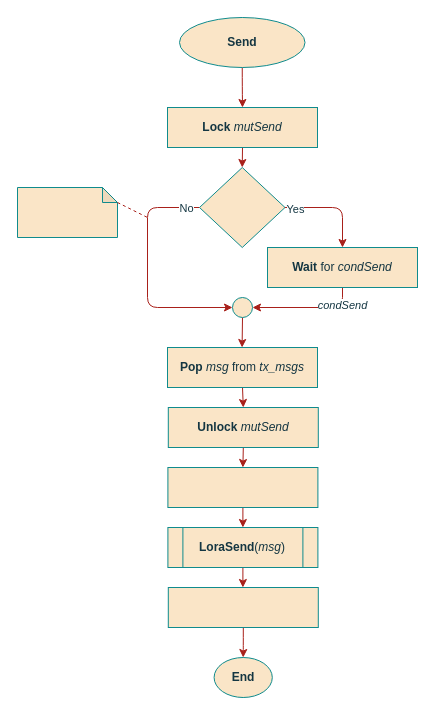
The diagram is 435 pixels wide and 715 high, and some of its shapes have lost their labels. The shapes that lost their labels are listed below. From the top down, each one's centre as x and y in pixels, then its label:
At (67,212): "Continue to send queued messages".
At (241,207): "Is tx_msgs empty?".
At (242,487): "Lock mutComms".
At (242,607): "Unlock mutComms".
